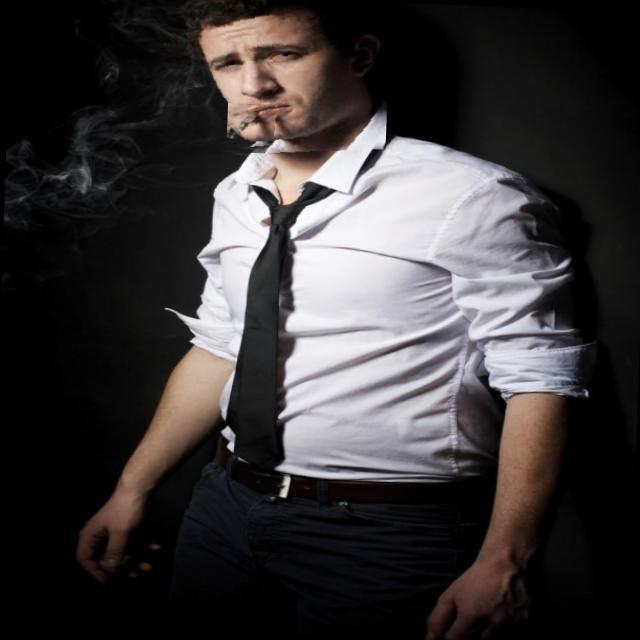cigarette: (226, 103, 277, 150)
